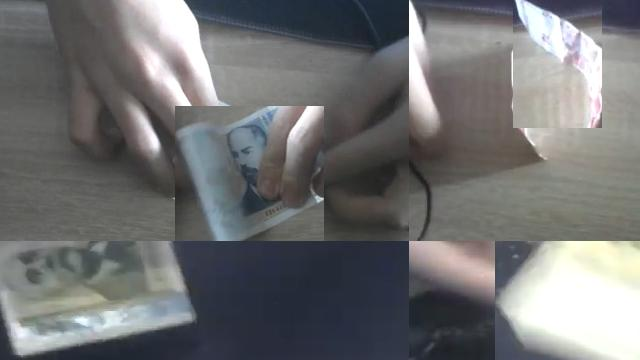10leva: (495, 241, 640, 360)
20leva: (175, 106, 324, 241)
5leva: (513, 0, 602, 128)
